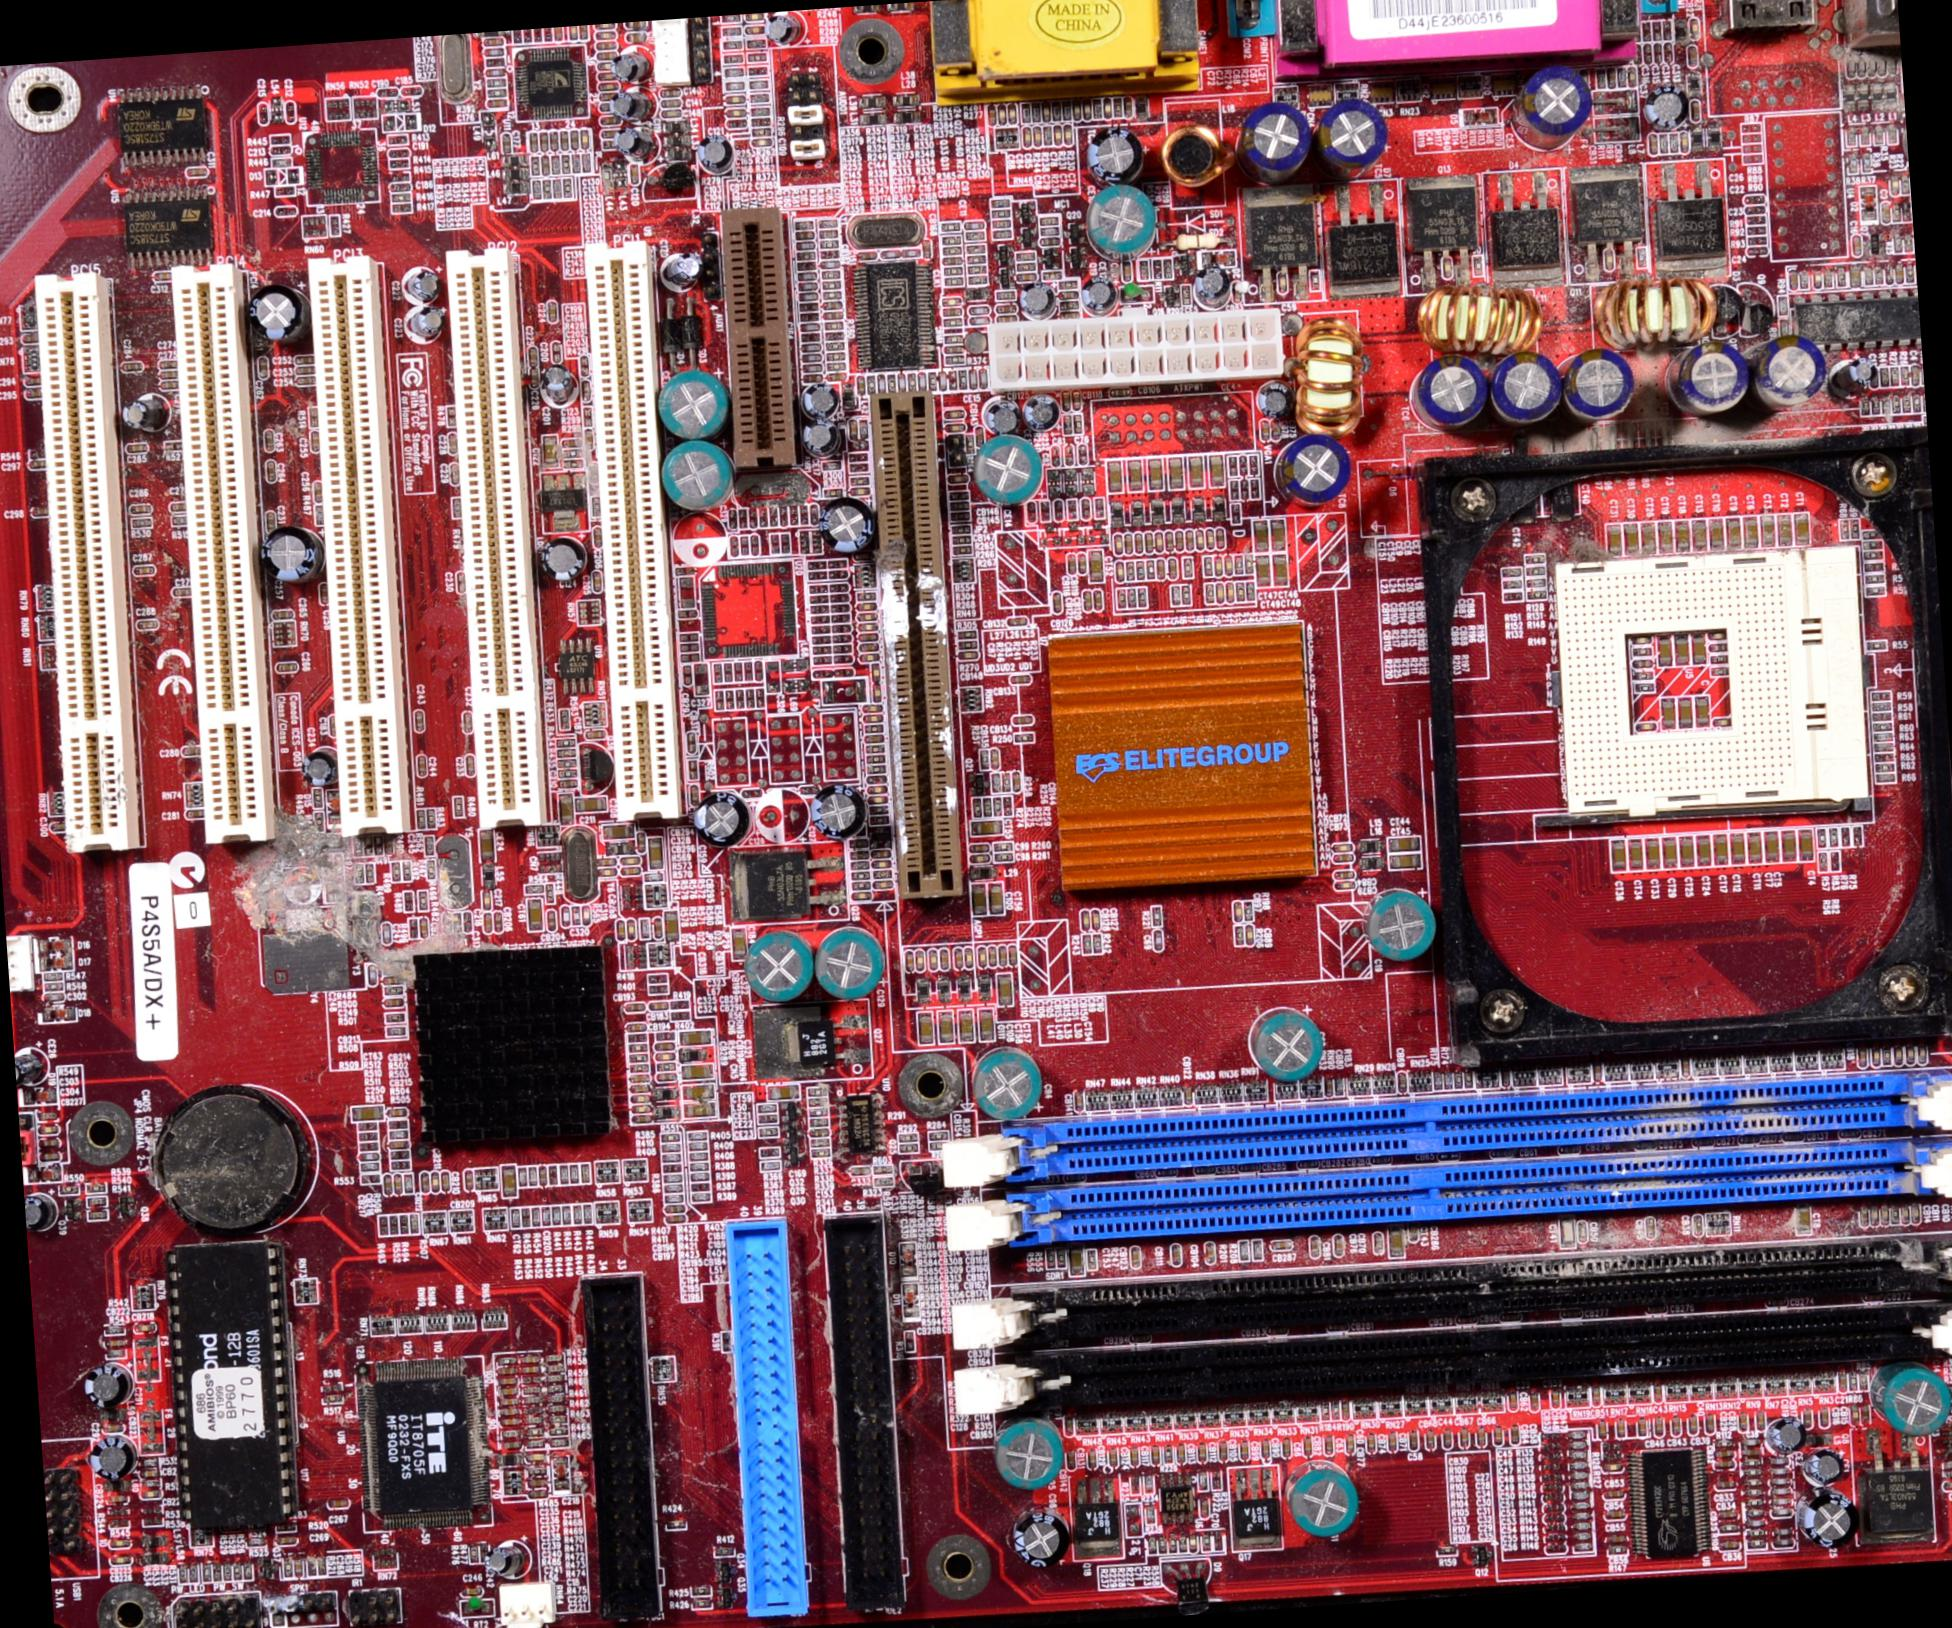Capacitor Jumper: (762, 798, 798, 833), (702, 801, 739, 832), (824, 793, 856, 827), (306, 754, 336, 782), (410, 269, 438, 295), (15, 1056, 39, 1077), (600, 822, 632, 837), (527, 902, 543, 929), (420, 311, 441, 332), (1388, 1231, 1404, 1255), (683, 1031, 710, 1044), (979, 1012, 994, 1036), (684, 1085, 710, 1098), (770, 1085, 796, 1098), (504, 1166, 516, 1193), (733, 929, 746, 952), (960, 1013, 973, 1036), (921, 1017, 932, 1043), (939, 1015, 950, 1038), (1443, 253, 1453, 279), (999, 978, 1010, 999), (652, 838, 661, 863), (699, 665, 708, 689), (136, 564, 154, 577), (689, 1104, 712, 1114), (1258, 1440, 1269, 1459), (1385, 1435, 1394, 1458), (992, 887, 1002, 908), (976, 890, 986, 911), (376, 88, 397, 97), (284, 99, 293, 120), (412, 709, 423, 726), (577, 799, 597, 809), (684, 1065, 704, 1075), (135, 1325, 154, 1335), (109, 1557, 128, 1566), (1012, 676, 1031, 686), (1399, 1070, 1407, 1093), (266, 512, 277, 529), (384, 1012, 402, 1022), (358, 1109, 376, 1119), (1323, 1078, 1333, 1096), (1801, 1211, 1811, 1229), (1240, 1442, 1250, 1459), (859, 250, 877, 259), (447, 462, 457, 480), (1054, 501, 1064, 519), (259, 102, 268, 123), (725, 92, 739, 104), (42, 1153, 62, 1161), (399, 88, 418, 96), (1302, 1438, 1312, 1454), (1284, 1438, 1292, 1458), (1200, 1498, 1208, 1518), (1605, 1490, 1621, 1500), (1655, 44, 1663, 63), (1749, 246, 1766, 256), (579, 355, 587, 375), (971, 843, 989, 851), (666, 916, 674, 934), (1065, 1420, 1073, 1438), (1323, 1438, 1331, 1456), (579, 130, 587, 148), (315, 482, 323, 499), (456, 576, 464, 593), (592, 571, 600, 589), (1096, 590, 1104, 608), (183, 744, 198, 754), (1634, 658, 1649, 668), (49, 824, 63, 833), (1548, 1390, 1558, 1404), (1216, 1446, 1226, 1461), (1187, 1537, 1196, 1552), (264, 461, 274, 475), (465, 757, 473, 773), (465, 1172, 473, 1189), (1205, 1245, 1213, 1262), (1646, 1219, 1654, 1236), (1693, 1218, 1701, 1234), (1652, 1385, 1660, 1401), (329, 1500, 345, 1508), (1132, 1450, 1140, 1466), (1409, 1433, 1417, 1450), (1344, 1438, 1352, 1454), (503, 135, 511, 151), (530, 135, 538, 151), (1853, 268, 1861, 284), (950, 475, 966, 483), (593, 527, 601, 543), (327, 718, 336, 735), (1628, 636, 1644, 644), (24, 332, 36, 344), (464, 713, 470, 733), (589, 730, 601, 739), (1425, 1435, 1435, 1448), (1681, 135, 1688, 154), (905, 246, 918, 256), (1890, 177, 1897, 196), (483, 37, 498, 45), (1245, 928, 1253, 942), (1579, 1224, 1587, 1239), (1858, 1210, 1866, 1224), (1545, 1464, 1560, 1472), (1715, 1482, 1730, 1490), (1547, 1513, 1561, 1521), (1725, 1540, 1740, 1549), (272, 148, 287, 156), (276, 208, 290, 216), (1650, 136, 1659, 151), (130, 444, 144, 452), (728, 512, 736, 527), (1068, 555, 1077, 569), (833, 603, 848, 611), (383, 924, 389, 942), (1610, 1539, 1628, 1545), (989, 107, 995, 125), (582, 383, 589, 401), (674, 568, 692, 574), (447, 433, 452, 456), (1639, 723, 1652, 731), (1015, 773, 1021, 790), (1093, 911, 1099, 928), (1007, 949, 1015, 962), (41, 1137, 54, 1145), (1075, 1093, 1081, 1109), (1501, 1072, 1509, 1085), (1681, 1059, 1689, 1072), (1882, 1049, 1889, 1065), (394, 1176, 400, 1192), (1274, 1240, 1287, 1249), (1174, 1247, 1180, 1263), (1132, 1250, 1138, 1266), (1312, 1239, 1318, 1255), (1910, 1208, 1918, 1221), (1511, 1391, 1518, 1407), (1086, 1451, 1094, 1464), (1508, 1427, 1516, 1440), (1597, 1424, 1605, 1437), (1821, 1411, 1829, 1424), (1545, 1495, 1558, 1503), (538, 130, 545, 146), (999, 109, 1005, 125), (1023, 130, 1031, 143), (156, 271, 169, 279), (1748, 196, 1761, 204), (259, 362, 266, 378), (804, 353, 817, 362), (263, 431, 269, 448), (1911, 368, 1920, 381), (133, 503, 146, 511), (1263, 423, 1269, 439), (1026, 504, 1033, 521), (1187, 533, 1195, 546), (1156, 537, 1164, 550), (832, 571, 848, 577), (1096, 592, 1102, 608), (833, 636, 850, 642), (1013, 717, 1028, 723), (692, 785, 697, 804), (597, 858, 611, 864), (629, 921, 634, 940), (1232, 905, 1239, 919), (368, 970, 375, 984), (906, 953, 913, 968), (931, 953, 937, 968), (597, 50, 611, 57), (657, 1033, 671, 1039), (391, 1142, 405, 1148), (1592, 1065, 1599, 1080), (811, 1129, 825, 1135), (441, 1174, 447, 1189), (1590, 1388, 1597, 1403), (530, 1492, 545, 1498), (1111, 1450, 1117, 1464), (1198, 1446, 1205, 1461), (1368, 1438, 1375, 1453), (1657, 1420, 1663, 1435), (1803, 1411, 1809, 1425), (277, 1539, 292, 1545), (1607, 1464, 1621, 1471), (1607, 1511, 1621, 1518), (728, 109, 743, 115), (387, 152, 407, 157), (1127, 101, 1133, 115), (1054, 125, 1060, 139), (295, 357, 310, 363), (1895, 264, 1902, 279), (1073, 394, 1080, 409), (172, 501, 182, 511), (781, 509, 788, 524), (751, 537, 757, 551), (1125, 535, 1132, 550), (1068, 558, 1075, 572), (754, 663, 760, 678), (631, 1002, 642, 1010), (634, 1085, 645, 1093), (1689, 1419, 1697, 1430), (828, 311, 840, 319), (164, 381, 175, 389), (948, 409, 960, 417), (31, 509, 42, 517), (548, 910, 553, 928), (618, 919, 623, 937), (44, 994, 62, 999), (1696, 99, 1701, 117), (820, 261, 838, 266), (992, 751, 999, 764), (619, 858, 632, 864), (995, 843, 1008, 850), (1338, 856, 1351, 863), (1338, 872, 1351, 879), (979, 952, 986, 965), (653, 1004, 666, 1010), (632, 1025, 645, 1031), (391, 1107, 404, 1114), (632, 1095, 645, 1101), (634, 1104, 647, 1111), (358, 1155, 371, 1161), (511, 1211, 517, 1224), (1336, 1239, 1342, 1252), (1869, 1210, 1876, 1223), (1177, 1445, 1184, 1458), (1443, 1432, 1449, 1445), (1545, 1456, 1558, 1463), (1545, 1476, 1558, 1482), (1777, 1511, 1790, 1518), (1723, 1526, 1736, 1532), (1550, 1545, 1563, 1552), (603, 128, 616, 135), (1688, 49, 1694, 62), (1075, 105, 1081, 118), (1036, 128, 1042, 141), (926, 242, 932, 255), (1744, 206, 1757, 212), (550, 303, 556, 316), (1124, 266, 1130, 279), (123, 363, 136, 370), (26, 378, 39, 384), (973, 316, 986, 323), (551, 345, 558, 358), (1788, 274, 1795, 287), (1049, 448, 1055, 461), (953, 504, 966, 511), (1083, 501, 1089, 514), (319, 587, 326, 600), (1146, 535, 1153, 548), (276, 610, 289, 616), (832, 584, 845, 590), (859, 603, 872, 610), (863, 642, 875, 649), (627, 21, 640, 28), (1710, 644, 1720, 652), (186, 812, 203, 817), (623, 869, 639, 874), (486, 915, 491, 931), (423, 921, 428, 937), (657, 921, 661, 937), (1085, 911, 1089, 928), (989, 952, 997, 962), (1187, 1088, 1192, 1104), (542, 1169, 546, 1185), (1409, 1229, 1417, 1239), (1902, 1208, 1907, 1224), (1715, 1453, 1732, 1458), (663, 102, 679, 107), (1942, 1484, 1950, 1493), (1644, 45, 1649, 62), (551, 133, 556, 149), (887, 250, 897, 258), (1607, 250, 1612, 266), (532, 345, 537, 362), (313, 433, 318, 449), (950, 423, 960, 431), (731, 537, 736, 553), (1158, 561, 1162, 577), (859, 634, 875, 639), (580, 26, 587, 37), (689, 736, 696, 748), (600, 31, 611, 37), (485, 895, 491, 906), (1336, 845, 1347, 851), (601, 41, 613, 47), (488, 50, 499, 57), (386, 978, 397, 984), (488, 68, 499, 75), (1873, 1052, 1879, 1064), (670, 1195, 681, 1202), (603, 71, 614, 78), (504, 1442, 516, 1448), (532, 1454, 543, 1461), (1475, 1435, 1482, 1446), (1706, 1420, 1712, 1432), (598, 101, 610, 107), (1547, 1443, 1558, 1450), (824, 302, 835, 308), (945, 297, 957, 303), (804, 326, 815, 332), (28, 389, 39, 396), (175, 592, 186, 598), (1117, 566, 1124, 577), (681, 610, 692, 616), (1055, 595, 1062, 606), (835, 626, 846, 632), (418, 757, 423, 772), (966, 950, 971, 965), (1000, 950, 1005, 965), (657, 1044, 671, 1049), (39, 1129, 54, 1133), (433, 1174, 438, 1189), (851, 1169, 866, 1174), (1376, 1237, 1381, 1252), (109, 1341, 123, 1346), (1342, 1403, 1347, 1417), (109, 1493, 123, 1498), (1149, 1448, 1154, 1463), (1759, 1414, 1764, 1429), (1693, 21, 1697, 36), (1602, 71, 1607, 86), (392, 183, 407, 188), (632, 164, 637, 178), (631, 167, 636, 182), (1884, 206, 1889, 221), (1855, 235, 1860, 250), (970, 306, 984, 311), (159, 363, 173, 368), (942, 375, 947, 389), (970, 373, 974, 388), (1274, 422, 1279, 436), (1064, 446, 1068, 461), (812, 506, 817, 521), (1137, 535, 1141, 550), (1169, 533, 1174, 548), (1169, 561, 1174, 576), (1216, 559, 1221, 574), (1229, 585, 1234, 600), (859, 624, 874, 629), (684, 666, 689, 681), (1709, 631, 1723, 636), (569, 26, 576, 36), (749, 13, 759, 19), (866, 738, 879, 743), (871, 788, 884, 793), (386, 838, 391, 851), (639, 837, 644, 850), (875, 861, 888, 866), (997, 853, 1007, 859), (856, 893, 869, 898), (496, 916, 501, 929), (1336, 880, 1349, 885), (916, 953, 921, 966), (955, 952, 960, 965), (751, 41, 760, 47), (632, 1075, 645, 1080), (658, 1075, 671, 1080), (423, 1174, 426, 1193), (668, 1187, 681, 1192), (670, 1205, 679, 1211), (1882, 1210, 1887, 1223), (603, 91, 613, 97), (506, 1407, 516, 1414), (144, 1471, 154, 1477), (146, 1490, 156, 1497), (1527, 1395, 1534, 1404), (532, 1480, 542, 1487), (1495, 1430, 1501, 1440), (1618, 1422, 1623, 1435), (1741, 1416, 1746, 1429), (1775, 1458, 1785, 1464), (1720, 1463, 1730, 1469), (465, 1591, 478, 1596), (1777, 1500, 1790, 1505), (1722, 1511, 1732, 1518), (1547, 1526, 1560, 1531), (1279, 271, 1282, 290), (999, 306, 1012, 311), (297, 368, 310, 373), (828, 376, 838, 383), (858, 378, 863, 391), (563, 439, 576, 444), (952, 493, 965, 498), (749, 511, 754, 524), (1206, 533, 1211, 546), (1080, 558, 1085, 571), (832, 593, 841, 600), (1085, 592, 1089, 605), (859, 615, 872, 619), (1218, 587, 1222, 600), (1008, 619, 1021, 624), (961, 652, 974, 657), (875, 686, 880, 699), (563, 131, 566, 149), (867, 717, 879, 722), (877, 880, 888, 885), (1156, 934, 1161, 945), (655, 1054, 666, 1059), (636, 1117, 647, 1122), (1860, 1052, 1864, 1064), (1895, 1051, 1900, 1062), (1907, 1051, 1911, 1062), (543, 1210, 548, 1221), (488, 101, 499, 105), (1639, 1424, 1644, 1435), (1749, 1521, 1761, 1526), (1780, 1539, 1791, 1544), (571, 131, 576, 143), (1083, 105, 1088, 117), (1102, 104, 1107, 115), (1064, 128, 1068, 139), (799, 295, 811, 300), (164, 371, 175, 376), (298, 379, 310, 384), (1886, 269, 1890, 281), (877, 378, 882, 389), (981, 371, 986, 383), (850, 423, 854, 435), (853, 490, 864, 495), (1117, 538, 1122, 550), (1198, 535, 1203, 546), (279, 666, 290, 671), (864, 655, 875, 660), (874, 666, 879, 678), (597, 23, 608, 28), (556, 28, 563, 36), (879, 851, 887, 858), (944, 952, 947, 968), (1746, 1438, 1754, 1445), (1779, 1480, 1787, 1487), (1668, 44, 1672, 60), (31, 464, 39, 470), (866, 709, 880, 712), (871, 777, 880, 782), (872, 798, 882, 803), (974, 856, 984, 861), (670, 1216, 679, 1221), (499, 1369, 509, 1373), (525, 1369, 535, 1373), (498, 1382, 512, 1385), (663, 89, 673, 94), (1461, 1435, 1466, 1445), (113, 1539, 123, 1544), (293, 1565, 298, 1574), (1543, 1503, 1553, 1508), (663, 110, 673, 115), (601, 115, 611, 120), (731, 122, 741, 126), (1010, 107, 1015, 117), (1629, 68, 1633, 83), (757, 138, 767, 143), (999, 315, 1013, 318), (806, 365, 815, 370), (901, 376, 905, 391), (921, 375, 924, 389), (1065, 392, 1068, 407), (837, 668, 846, 673), (1717, 720, 1730, 723), (384, 1177, 387, 1190), (806, 376, 812, 383), (1078, 444, 1081, 457), (139, 623, 152, 626), (1226, 559, 1229, 572), (1920, 1052, 1924, 1060), (527, 1356, 535, 1360), (1748, 1450, 1756, 1454), (1547, 1484, 1555, 1489), (1777, 1490, 1785, 1495), (806, 345, 814, 350), (666, 1176, 678, 1179), (504, 1420, 516, 1424), (747, 28, 757, 31), (603, 83, 613, 86), (1673, 1422, 1676, 1432), (1775, 1469, 1785, 1472), (803, 277, 812, 281), (1814, 274, 1817, 284), (838, 657, 848, 660), (503, 1390, 511, 1393), (504, 1399, 512, 1403), (1548, 1433, 1556, 1437), (1545, 1537, 1561, 1539), (1780, 1529, 1788, 1532), (801, 285, 809, 289), (817, 671, 825, 675), (605, 141, 610, 146), (603, 871, 610, 874), (1179, 533, 1180, 546), (600, 63, 608, 65)
Connector: (37, 271, 135, 830), (451, 245, 533, 795), (592, 251, 670, 798), (175, 266, 251, 817), (324, 266, 392, 819)
IC: (365, 1364, 477, 1523), (713, 564, 791, 650), (1639, 1451, 1701, 1557), (863, 261, 919, 371), (120, 97, 201, 151), (130, 201, 206, 258), (519, 52, 585, 115), (840, 1099, 872, 1145), (1159, 1484, 1193, 1516), (561, 650, 590, 676), (504, 1472, 520, 1493)
Resistor Jumper: (107, 1323, 126, 1335), (723, 1331, 733, 1352), (670, 999, 687, 1010), (451, 798, 462, 814), (391, 864, 402, 880), (903, 1333, 913, 1351), (323, 1382, 340, 1391), (1868, 639, 1882, 650), (1873, 691, 1889, 700), (1839, 829, 1848, 845), (44, 975, 63, 983), (725, 65, 741, 75), (1240, 1242, 1250, 1258), (144, 1508, 164, 1516), (1749, 214, 1766, 224), (1161, 258, 1171, 274), (584, 409, 593, 425), (1018, 253, 1031, 264), (315, 812, 323, 830), (357, 864, 365, 882), (1440, 1547, 1458, 1555), (394, 203, 412, 211), (1472, 259, 1480, 277), (770, 509, 778, 527), (522, 29, 532, 44), (971, 799, 981, 814), (713, 1547, 728, 1557), (551, 156, 561, 170), (828, 358, 843, 368), (1013, 735, 1030, 743), (362, 1163, 378, 1171), (144, 1518, 161, 1526), (668, 1521, 684, 1529), (554, 180, 563, 196), (331, 217, 339, 233), (971, 255, 987, 263), (1779, 298, 1787, 315), (165, 443, 182, 451), (313, 508, 321, 524), (1237, 556, 1245, 572), (1881, 752, 1894, 762), (524, 885, 543, 892), (485, 76, 504, 83), (1746, 227, 1759, 237), (687, 762, 696, 777), (1874, 702, 1889, 710), (368, 866, 376, 880), (404, 892, 412, 906), (417, 892, 425, 906), (1832, 851, 1840, 866), (1433, 1073, 1441, 1088), (527, 1167, 535, 1182), (89, 1211, 104, 1219), (756, 81, 770, 89), (1641, 23, 1649, 37), (279, 1521, 293, 1529), (467, 1545, 475, 1560), (1146, 1540, 1154, 1555), (1201, 1537, 1209, 1552), (752, 107, 767, 115), (572, 157, 580, 172), (1041, 229, 1055, 237), (1902, 177, 1910, 191), (825, 323, 840, 331), (1801, 272, 1809, 287), (564, 461, 579, 469), (1146, 561, 1154, 576), (1848, 521, 1856, 535), (1866, 574, 1881, 582), (381, 1218, 387, 1236), (1021, 104, 1028, 122), (1744, 156, 1762, 162), (452, 496, 459, 514), (592, 498, 598, 516), (1633, 649, 1649, 655), (1634, 671, 1650, 678), (426, 814, 434, 827), (418, 812, 425, 829), (353, 838, 360, 855), (1884, 772, 1897, 780), (412, 919, 418, 936), (640, 919, 647, 936), (1153, 908, 1159, 924), (671, 1013, 684, 1022), (39, 1111, 55, 1117), (809, 1088, 822, 1096), (360, 1124, 376, 1130), (389, 1122, 402, 1130), (762, 1127, 775, 1135), (92, 1197, 105, 1205), (561, 1167, 569, 1180), (872, 1164, 888, 1171), (109, 1518, 125, 1524), (1162, 1448, 1171, 1461), (1130, 1479, 1138, 1492), (203, 1566, 209, 1583), (756, 94, 768, 102), (691, 1602, 707, 1609), (391, 133, 404, 141), (274, 161, 290, 167), (819, 216, 832, 224), (1153, 261, 1161, 274), (1000, 289, 1013, 297), (311, 407, 318, 423), (791, 509, 798, 525), (952, 525, 965, 533), (858, 592, 871, 600), (679, 644, 696, 650), (681, 653, 697, 660), (736, 689, 743, 705), (726, 691, 733, 707), (725, 15, 739, 21), (558, 751, 572, 757), (981, 751, 987, 765), (1877, 723, 1892, 730), (425, 837, 431, 851), (853, 863, 867, 869), (1235, 929, 1242, 944), (389, 1028, 404, 1035), (631, 1065, 645, 1072), (362, 1145, 376, 1151), (689, 1132, 704, 1138), (751, 55, 765, 62), (410, 1216, 417, 1231), (532, 1210, 538, 1224), (1088, 1252, 1094, 1266), (1253, 1244, 1260, 1258), (139, 1459, 154, 1466), (1652, 23, 1659, 37), (1579, 1542, 1594, 1549), (1616, 70, 1623, 84), (1046, 130, 1052, 144), (276, 188, 290, 195), (798, 221, 812, 227), (1042, 219, 1057, 225), (1140, 263, 1146, 277), (1310, 271, 1315, 290), (1065, 300, 1080, 306), (828, 352, 843, 358), (585, 433, 592, 448), (861, 418, 866, 438), (1903, 366, 1910, 381), (170, 519, 185, 525), (851, 475, 866, 482), (759, 509, 765, 524), (1861, 533, 1876, 540), (960, 631, 974, 637), (713, 665, 720, 679), (717, 691, 723, 705), (1881, 764, 1892, 772), (725, 42, 736, 50), (396, 1163, 407, 1171), (110, 1510, 122, 1518), (1573, 1442, 1584, 1450), (1209, 1474, 1218, 1485), (1579, 1503, 1590, 1511), (271, 133, 282, 141), (1889, 130, 1897, 141), (1861, 271, 1869, 282), (632, 1057, 650, 1062), (446, 405, 451, 423), (1044, 503, 1049, 521), (561, 712, 567, 725), (1876, 713, 1889, 720), (1881, 733, 1894, 739), (1876, 744, 1889, 751), (404, 863, 410, 876), (645, 872, 658, 879), (1083, 937, 1089, 950), (650, 975, 663, 981), (362, 1135, 375, 1142), (1454, 1072, 1461, 1085), (665, 1133, 678, 1140), (691, 1145, 704, 1151), (903, 1133, 916, 1140), (903, 1145, 916, 1151), (550, 1169, 556, 1182), (764, 1161, 777, 1167), (585, 1206, 592, 1219), (1047, 1253, 1054, 1266), (110, 1351, 123, 1357), (326, 1398, 339, 1404), (250, 1537, 263, 1544), (178, 1568, 185, 1581), (224, 1566, 230, 1579), (1033, 105, 1039, 118), (543, 182, 550, 195), (566, 182, 572, 195), (1848, 131, 1855, 144), (799, 230, 812, 237), (944, 221, 957, 227), (1047, 271, 1060, 277), (824, 292, 837, 298), (1749, 238, 1762, 245), (1894, 370, 1900, 383), (822, 461, 835, 467), (133, 521, 146, 527), (953, 537, 966, 543), (1137, 563, 1143, 576), (1505, 569, 1518, 576), (1530, 590, 1543, 597), (960, 642, 973, 649), (734, 665, 741, 678), (430, 861, 434, 877), (365, 1176, 375, 1184), (405, 1176, 410, 1192), (697, 1192, 707, 1200), (554, 1438, 564, 1446), (543, 156, 548, 172), (1744, 123, 1754, 131), (1636, 248, 1641, 264), (1840, 272, 1848, 282), (1826, 274, 1834, 284), (1064, 415, 1068, 431), (1882, 368, 1887, 384), (773, 537, 778, 553), (1185, 561, 1190, 577), (1845, 521, 1850, 537), (1526, 555, 1535, 563), (1174, 585, 1179, 602), (1206, 584, 1211, 600), (1866, 587, 1876, 595), (1712, 657, 1723, 663), (1637, 686, 1649, 692), (572, 910, 579, 921), (1830, 833, 1837, 845), (387, 986, 399, 992), (807, 1099, 819, 1106), (726, 55, 738, 62), (86, 1184, 97, 1190), (665, 1145, 676, 1151), (696, 1182, 707, 1189), (749, 65, 760, 71), (1573, 1451, 1584, 1458), (1146, 1480, 1153, 1492), (284, 1563, 290, 1574), (1612, 1545, 1623, 1552), (754, 117, 765, 123), (759, 126, 770, 133), (1749, 144, 1761, 151), (994, 230, 1005, 237), (799, 261, 811, 268), (948, 256, 960, 263), (824, 271, 835, 277), (947, 277, 958, 284), (1064, 290, 1075, 297), (1876, 271, 1882, 282), (566, 449, 577, 456), (1073, 417, 1080, 428), (1895, 397, 1902, 409), (1884, 401, 1890, 412), (814, 637, 825, 644), (316, 791, 321, 806), (994, 777, 999, 791), (375, 838, 379, 853), (561, 908, 566, 923), (1822, 856, 1827, 871), (1247, 902, 1252, 916), (485, 58, 499, 63), (392, 1151, 407, 1156), (691, 1163, 705, 1167), (875, 1179, 890, 1184), (520, 1210, 525, 1224), (400, 1218, 405, 1232), (574, 1208, 579, 1223), (546, 1356, 561, 1360), (692, 1587, 707, 1592), (532, 157, 537, 172), (584, 156, 589, 170), (1662, 136, 1667, 151), (1895, 206, 1900, 221), (944, 321, 958, 326), (950, 357, 965, 362), (850, 465, 864, 470), (825, 490, 840, 495), (801, 508, 806, 522), (741, 537, 746, 551), (1250, 584, 1255, 598), (681, 634, 696, 639), (1527, 581, 1542, 585), (746, 663, 751, 678), (757, 689, 762, 704), (1576, 1463, 1584, 1471), (1942, 1459, 1950, 1467), (514, 31, 520, 41), (545, 28, 551, 37), (559, 739, 569, 746), (1712, 670, 1722, 676), (558, 762, 571, 767), (1005, 777, 1010, 790), (363, 840, 368, 853), (984, 799, 989, 812), (1004, 799, 1008, 812), (548, 887, 553, 900), (875, 871, 888, 876), (45, 984, 58, 989), (1466, 1075, 1470, 1088), (63, 1184, 76, 1189), (931, 1133, 944, 1138), (812, 1142, 825, 1146), (665, 1155, 678, 1159), (814, 1150, 827, 1155), (572, 1169, 579, 1179), (389, 1218, 394, 1231), (548, 1365, 561, 1370), (504, 1432, 517, 1437), (530, 1430, 540, 1437), (1200, 1476, 1205, 1489), (214, 1565, 219, 1578), (1576, 1524, 1589, 1529), (1581, 1532, 1594, 1537), (1112, 101, 1119, 110), (1064, 107, 1070, 117), (799, 251, 809, 258), (970, 245, 979, 251), (822, 282, 835, 287), (1062, 282, 1075, 287), (827, 336, 840, 341), (827, 344, 840, 349), (1908, 268, 1913, 281), (871, 375, 875, 388), (927, 375, 932, 388), (1782, 323, 1788, 332), (1915, 397, 1920, 410), (1903, 397, 1908, 410), (739, 511, 744, 524), (783, 537, 788, 550), (812, 571, 822, 577), (1127, 564, 1132, 577), (1120, 590, 1125, 603), (1237, 584, 1242, 597), (1532, 566, 1542, 572), (815, 647, 825, 653), (817, 657, 827, 663), (725, 665, 730, 678), (746, 691, 751, 704), (867, 726, 879, 731), (563, 772, 574, 777), (995, 801, 1000, 812), (853, 843, 864, 848), (853, 853, 864, 858), (856, 872, 867, 877), (858, 884, 869, 889), (584, 911, 589, 923), (1856, 830, 1861, 842), (1096, 937, 1101, 949), (387, 999, 399, 1004), (652, 986, 663, 991), (812, 1119, 824, 1124), (1445, 1073, 1449, 1085), (666, 1163, 678, 1167), (580, 1169, 585, 1180), (694, 1176, 705, 1180), (563, 1208, 567, 1219), (1060, 1253, 1065, 1265), (488, 89, 499, 94), (1894, 1210, 1898, 1221), (728, 81, 739, 86), (550, 1406, 561, 1411), (1667, 23, 1672, 34), (319, 1560, 324, 1571), (243, 1566, 248, 1578), (1052, 105, 1057, 117), (1610, 73, 1615, 84), (392, 195, 404, 199), (1670, 136, 1675, 148), (1861, 131, 1866, 143), (822, 232, 833, 237), (968, 233, 979, 238), (947, 268, 958, 272), (1903, 206, 1908, 217), (806, 315, 817, 319), (853, 456, 864, 461), (1070, 504, 1075, 516), (955, 548, 966, 553), (814, 597, 825, 602), (1184, 587, 1188, 598), (1866, 553, 1877, 558), (1821, 830, 1824, 846), (632, 1046, 640, 1052), (551, 1385, 559, 1391), (553, 1395, 561, 1401), (1577, 1472, 1586, 1479), (961, 371, 965, 388), (32, 451, 41, 457), (1206, 558, 1209, 574), (869, 748, 879, 752), (563, 782, 572, 786), (760, 1106, 770, 1111), (764, 1116, 773, 1120), (764, 1150, 773, 1155), (931, 1143, 940, 1148), (522, 1169, 525, 1184), (503, 1357, 512, 1362), (551, 1377, 561, 1382), (525, 1378, 535, 1383), (529, 1398, 538, 1403), (143, 1479, 152, 1484), (532, 1471, 542, 1476), (190, 1570, 195, 1579), (233, 1568, 238, 1578), (310, 1563, 315, 1573), (1158, 1539, 1162, 1549), (1169, 1539, 1174, 1549), (1182, 1539, 1187, 1549), (1751, 1531, 1761, 1536), (1096, 101, 1099, 115), (1864, 157, 1869, 167), (801, 243, 811, 248), (822, 242, 832, 246), (945, 235, 955, 240), (947, 246, 957, 251), (971, 266, 981, 271), (1021, 264, 1031, 269), (806, 303, 815, 308), (1874, 402, 1879, 412), (1248, 556, 1252, 571), (815, 606, 825, 611), (1868, 542, 1877, 546), (1132, 590, 1135, 605), (817, 628, 827, 632), (1866, 566, 1876, 571), (726, 29, 733, 36), (629, 1036, 642, 1039), (812, 1112, 825, 1116), (564, 157, 567, 170), (533, 180, 537, 193), (1853, 159, 1856, 172), (888, 376, 892, 389), (803, 535, 806, 548), (537, 29, 542, 37), (553, 1210, 558, 1218), (527, 1388, 535, 1393), (529, 1406, 537, 1411), (529, 1417, 537, 1422), (1574, 1433, 1582, 1438), (1722, 1442, 1730, 1446), (1748, 1463, 1756, 1467), (1751, 1480, 1759, 1485), (1576, 1493, 1584, 1498), (1942, 1472, 1950, 1477), (1581, 1514, 1589, 1519), (995, 203, 1004, 208), (997, 212, 1005, 217), (1864, 404, 1869, 412), (814, 587, 822, 592), (1506, 593, 1514, 598), (871, 757, 882, 760), (871, 767, 882, 770), (392, 1135, 404, 1138), (1098, 499, 1101, 511), (811, 563, 822, 566), (1140, 590, 1143, 602), (692, 1155, 702, 1158), (553, 1430, 563, 1433), (532, 1445, 538, 1450), (1751, 1540, 1757, 1545), (994, 224, 1004, 227), (970, 276, 976, 281), (806, 336, 815, 339), (815, 616, 822, 621), (872, 808, 880, 811), (874, 819, 882, 822), (553, 1417, 561, 1420), (1876, 131, 1879, 139), (822, 251, 830, 255), (947, 337, 955, 341), (1506, 584, 1514, 587), (1576, 1484, 1582, 1487), (1753, 1511, 1759, 1514), (1748, 136, 1754, 139), (911, 375, 913, 388), (1947, 1386, 1950, 1391), (1751, 1502, 1759, 1503), (1749, 1472, 1756, 1474), (1749, 1492, 1756, 1493)
Transistor: (1861, 1467, 1928, 1537), (734, 851, 801, 911), (1407, 182, 1469, 243), (1582, 174, 1636, 233), (1252, 201, 1303, 258), (1660, 199, 1717, 250), (1234, 1471, 1276, 1537), (1487, 209, 1542, 255), (1336, 227, 1381, 282), (1078, 1485, 1115, 1552), (785, 1023, 835, 1067), (545, 473, 582, 524), (582, 748, 608, 786), (1067, 221, 1085, 246), (1015, 201, 1033, 222), (973, 772, 986, 793), (1472, 1549, 1485, 1566), (1021, 227, 1034, 245), (997, 243, 1012, 258), (1046, 250, 1057, 268), (1873, 237, 1882, 255), (994, 269, 1008, 281), (1073, 251, 1083, 266)
